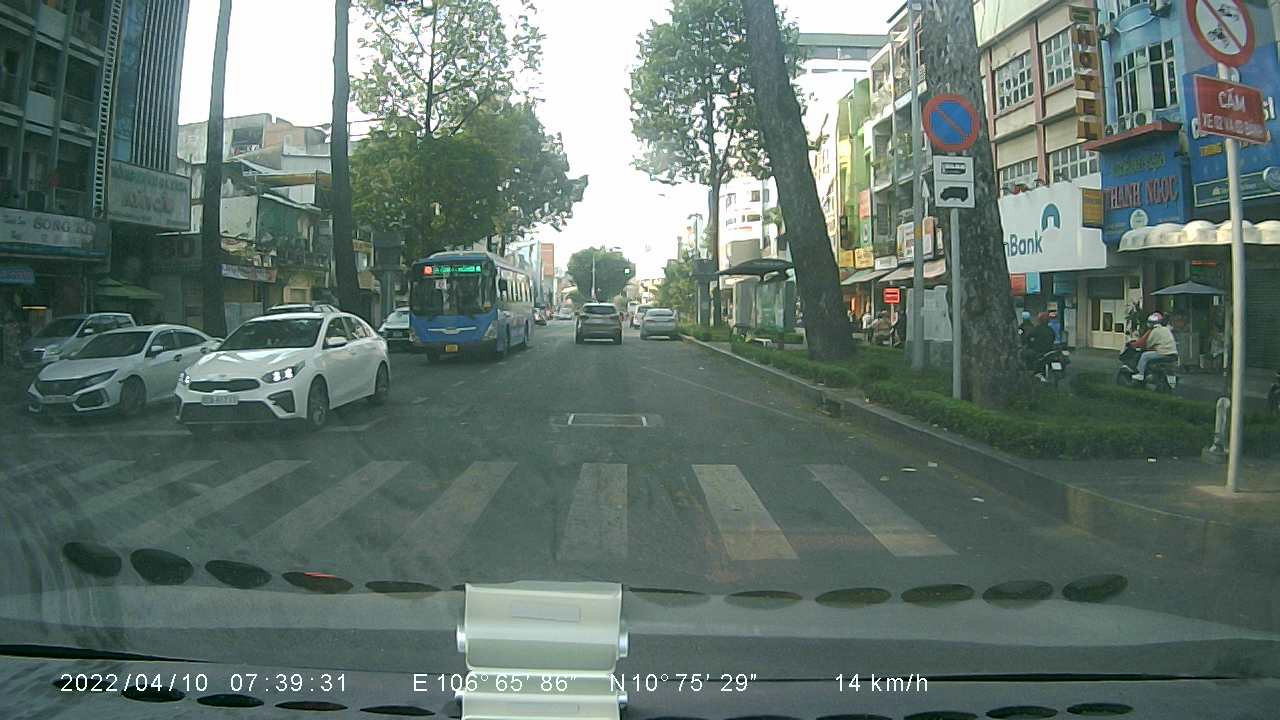Bien khac: (1180, 0, 1257, 66)
Cam do xe: (917, 91, 984, 149)
